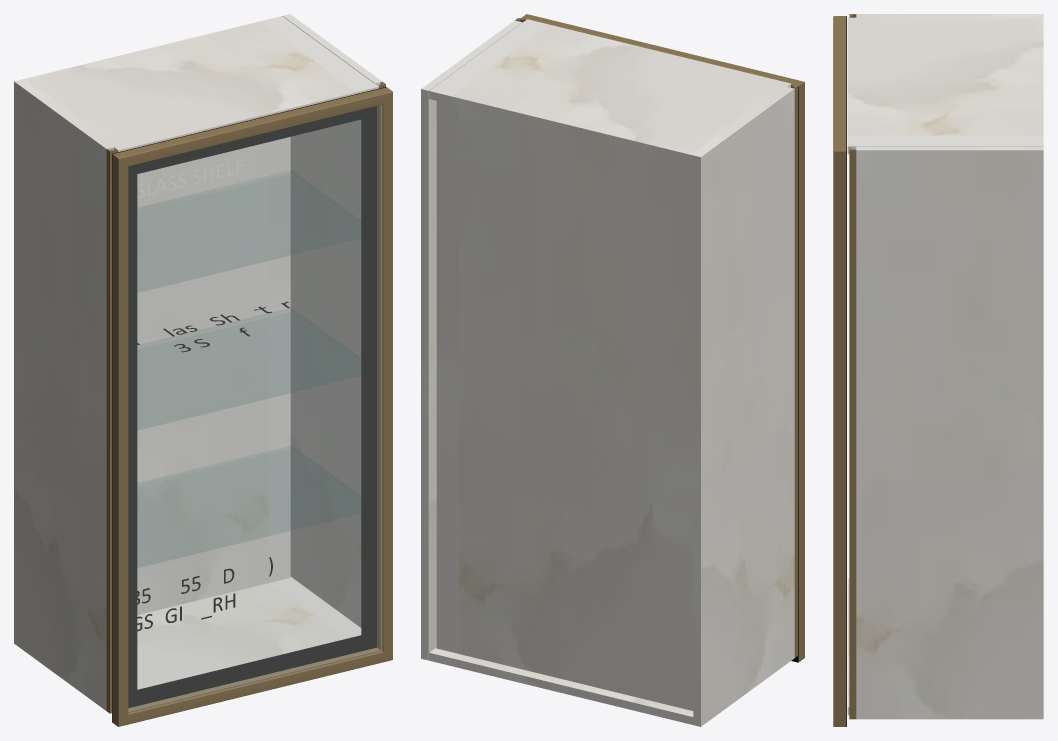
Rendered from WC3GS1GHS_RH (H1085xW550xD336).glb.
3 renders of one model, left to right at view 1: azimuth 30°, elevation 25°; view 2: azimuth 150°, elevation 25°; view 3: azimuth 270°, elevation 25°, orthographic.
Size of what is drawn, in the model's own units: 0.55 by 1.09 by 0.358.
7 materials, 1 textured.
